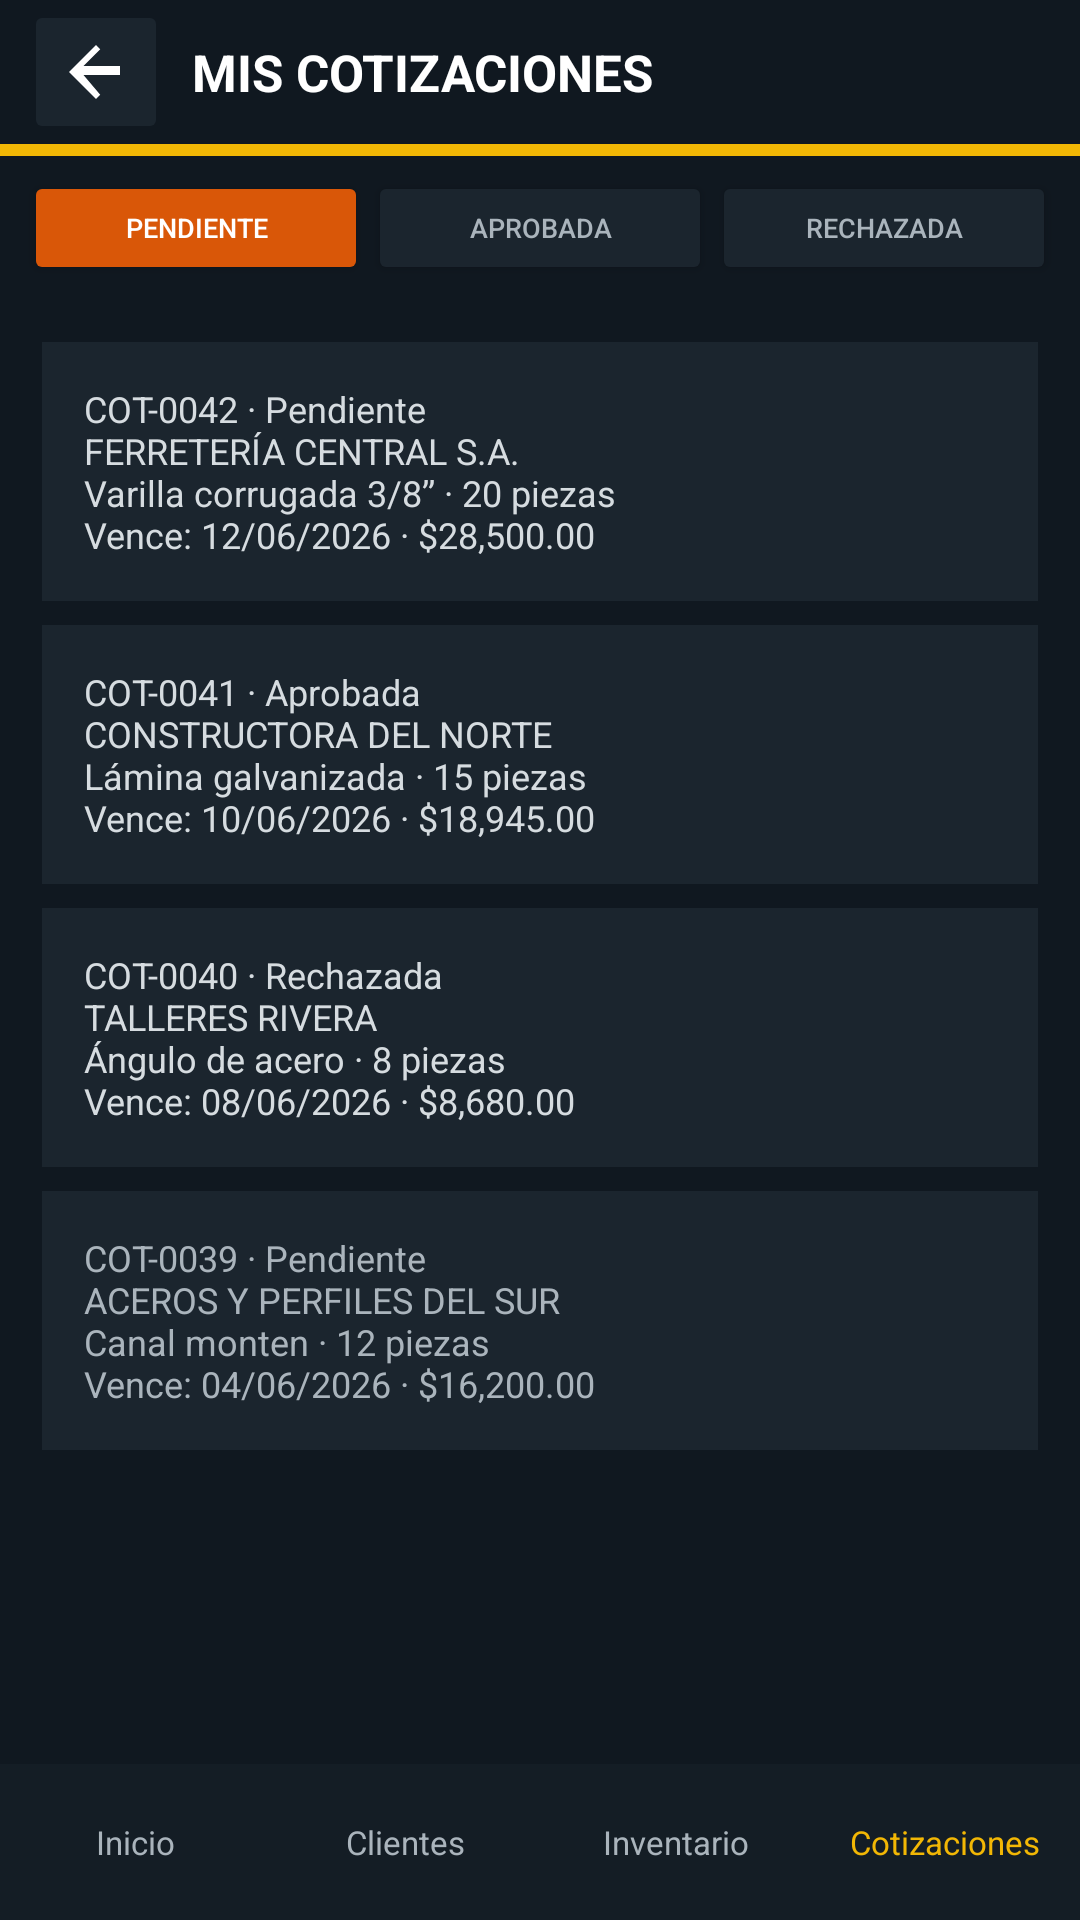

Named icons in this screenshot (1080x1920) and their bounding boxes, (x1, y1, x2, y2):
Volver: (36, 18, 156, 126)
